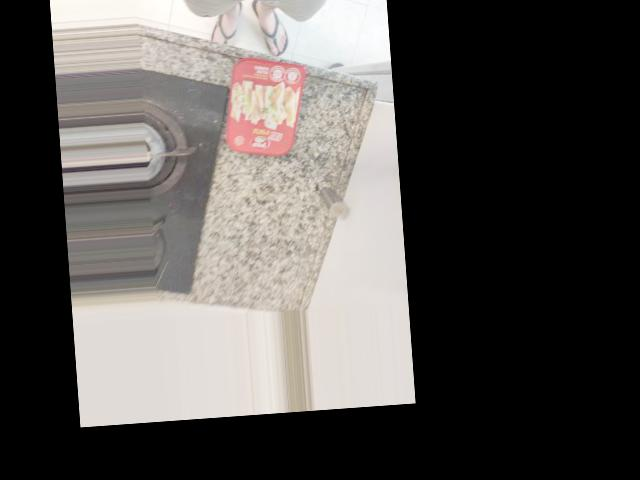cheese: (219, 40, 314, 156)
